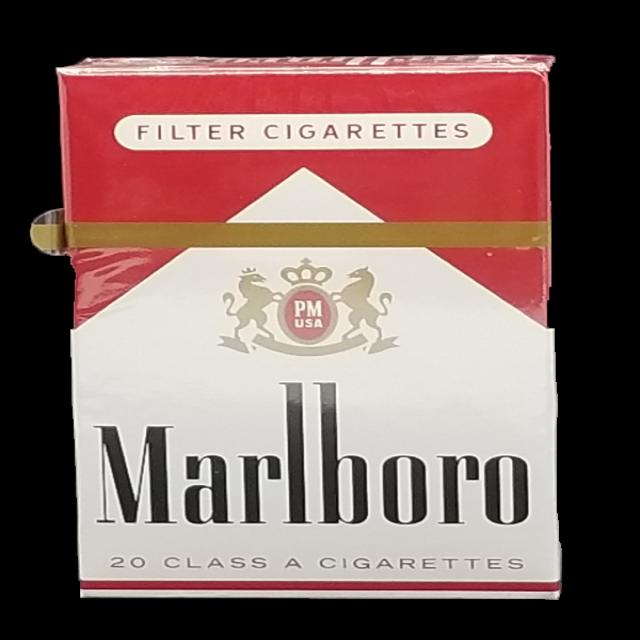marlboro: (26, 46, 574, 602)
